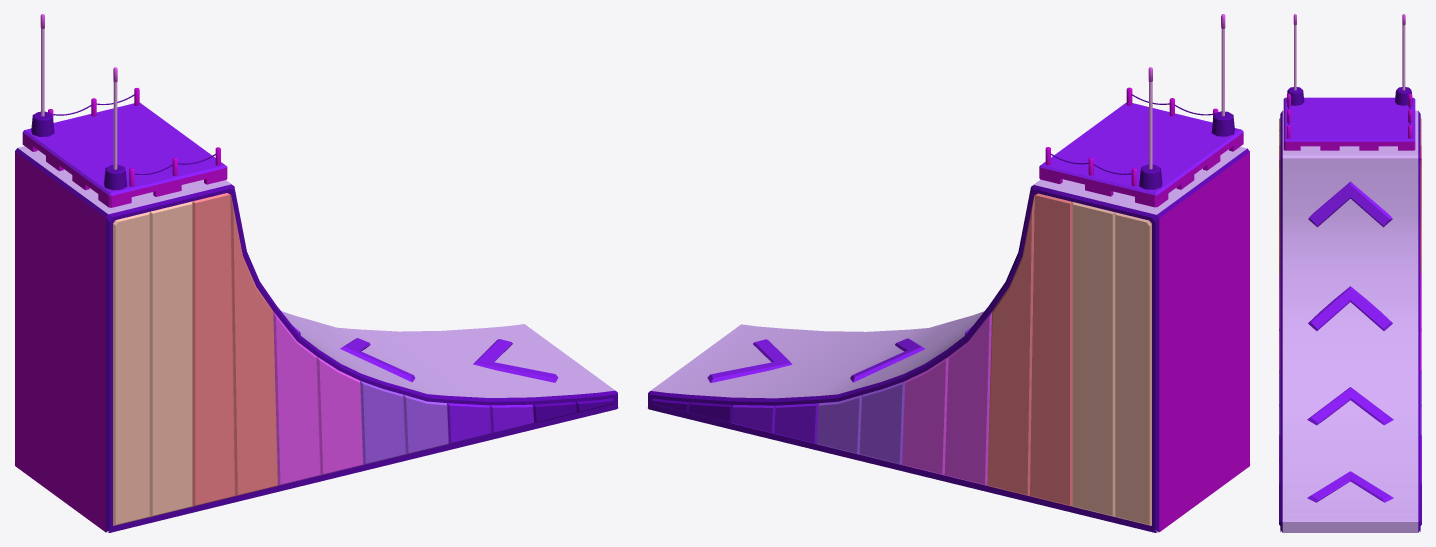
The model's file is Ramp.fbx.
The picture shows the model from 3 angles, left to right: view 1: azimuth 30°, elevation 25°; view 2: azimuth 150°, elevation 25°; view 3: azimuth 270°, elevation 25°; orthographic projection. The views are drawn at different scales.
Parts seen in each view (by area): view 1: Ramp_LOD0; view 2: Ramp_LOD0; view 3: Ramp_LOD0.
Part boxes in pixels (x1,y1,x2,y2): Ramp_LOD0: (15, 14, 618, 532); Ramp_LOD0: (648, 14, 1249, 532); Ramp_LOD0: (1279, 14, 1421, 532).
Size of what is drawn, in the model's own units: 741 by 628 by 240.
